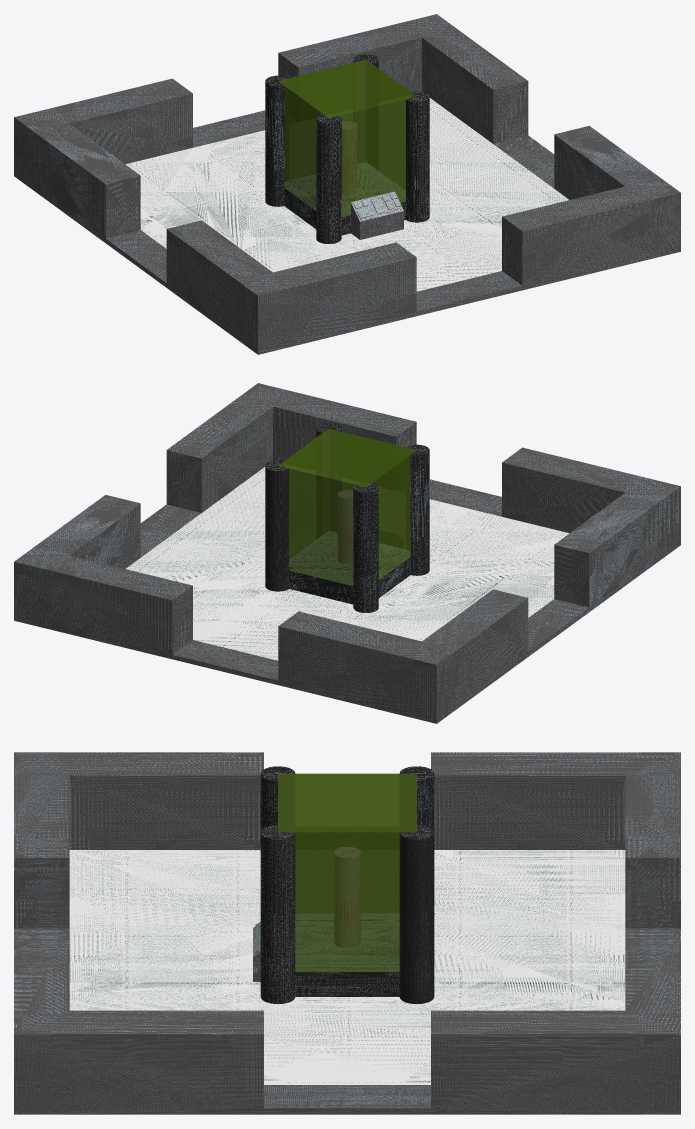
File: AI Core.fbx
3 renders of one model, top to bottom at view 1: azimuth 30°, elevation 25°; view 2: azimuth 150°, elevation 25°; view 3: azimuth 270°, elevation 25°, orthographic. The views are drawn at different scales.
Parts seen in each view (by area): view 1: Group1; view 2: Group1; view 3: Group1.
Part boxes in pixels (left/top/right/bottom): Group1: left=14, top=14, right=680, bottom=354; Group1: left=14, top=383, right=680, bottom=723; Group1: left=14, top=752, right=680, bottom=1114.
Size of the model in its own units: 144 by 40.69 by 144.
